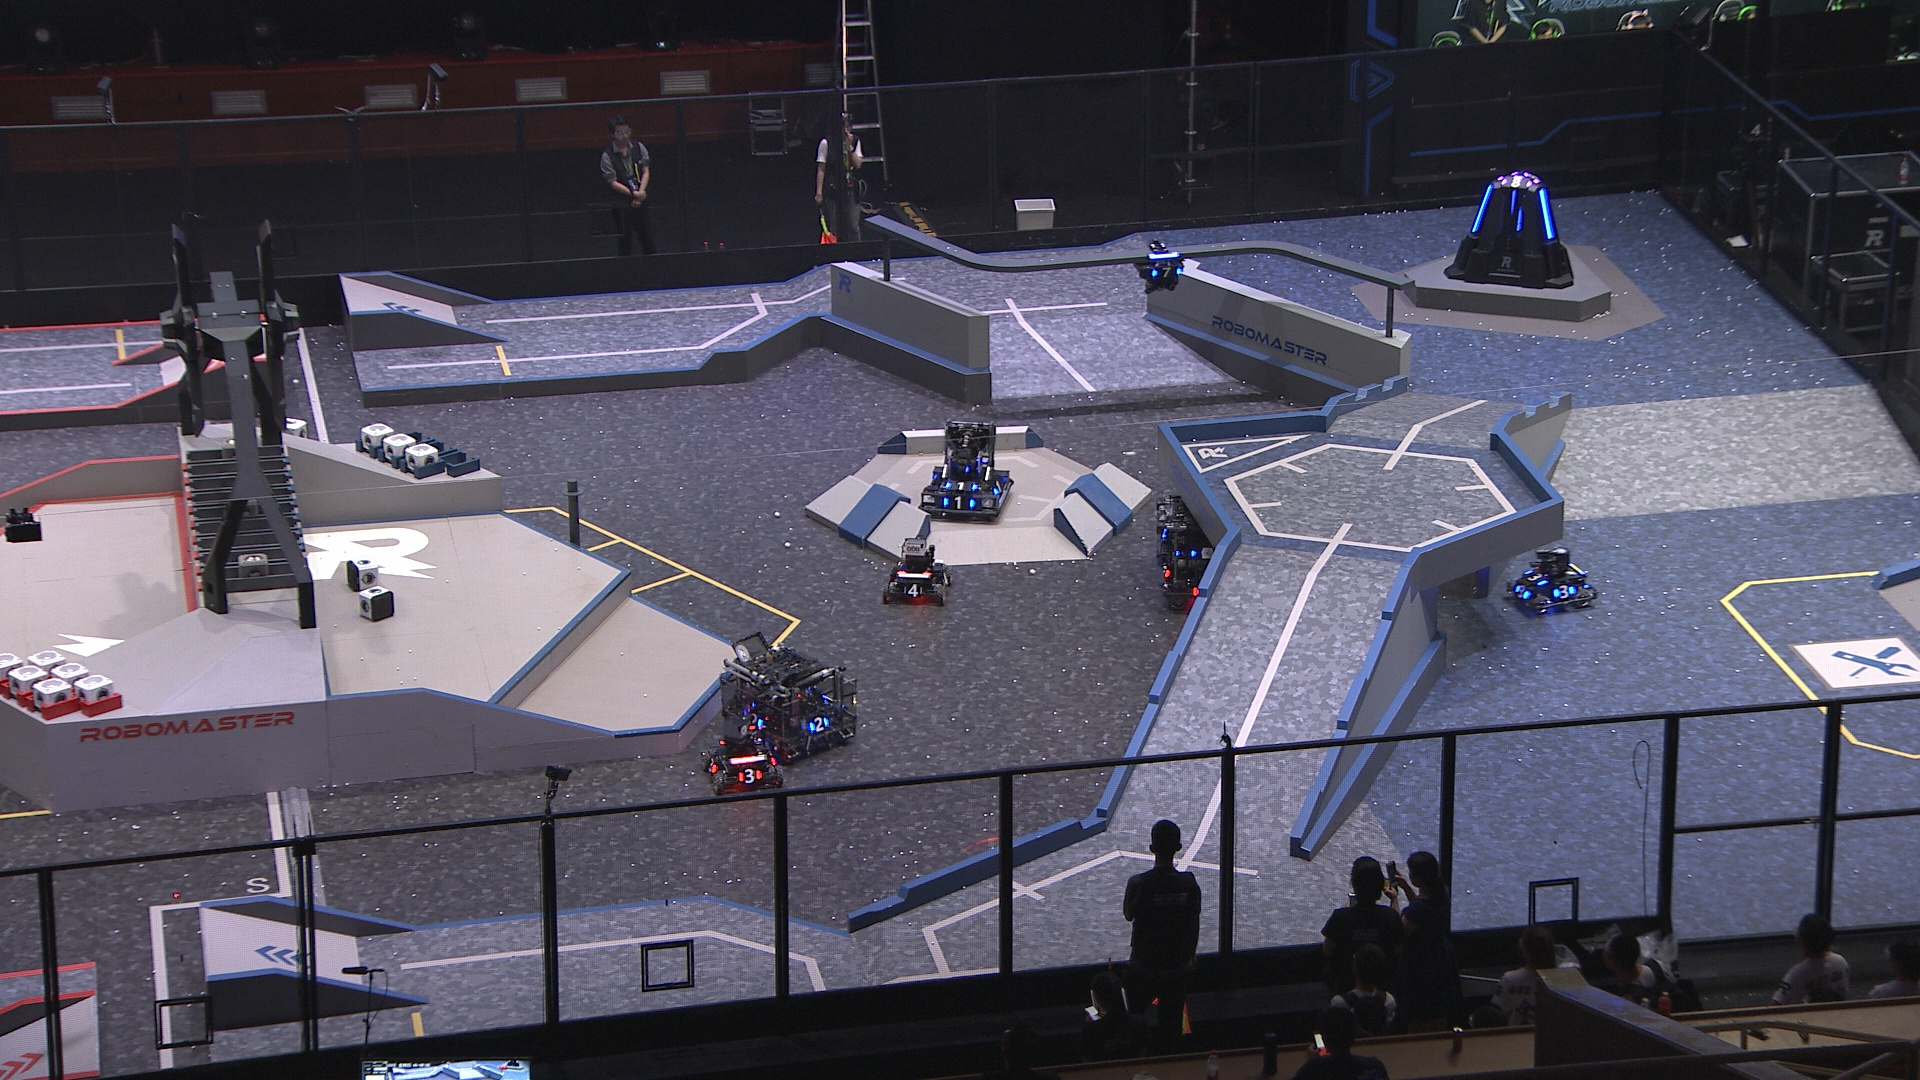armor: (1468, 183, 1493, 233), (1538, 189, 1556, 239), (939, 495, 975, 510), (737, 767, 764, 787), (1150, 266, 1185, 280), (903, 583, 926, 603), (1524, 568, 1547, 588), (807, 717, 831, 733), (1513, 583, 1531, 603), (1553, 584, 1578, 599), (944, 480, 978, 491), (704, 757, 721, 775), (746, 713, 766, 728), (992, 480, 1005, 496), (940, 567, 949, 585), (1516, 207, 1523, 232)
base: (1441, 166, 1575, 290)
car: (717, 636, 856, 765), (1153, 495, 1273, 616), (920, 414, 1015, 522), (1505, 547, 1600, 617), (698, 721, 787, 793), (884, 537, 955, 608)
ignore: (1501, 174, 1534, 190)
watcher: (1130, 237, 1187, 291)
